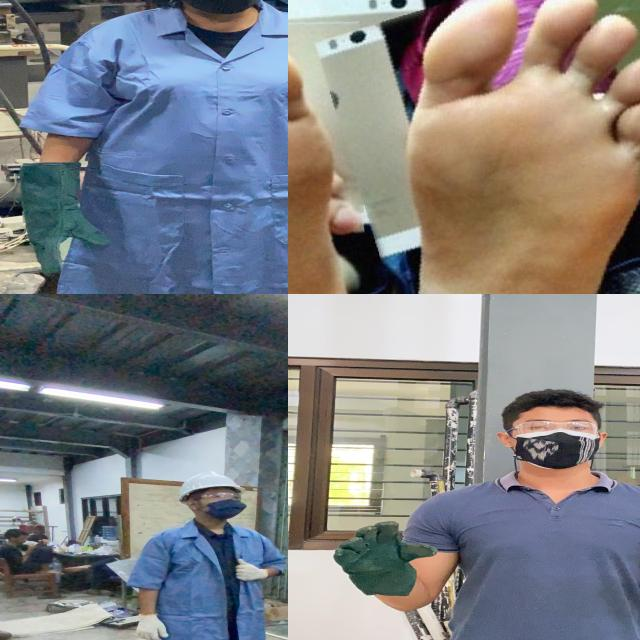Barefoots: (398, 0, 640, 294)
face_mask: (508, 415, 606, 468), (197, 488, 247, 518), (168, 0, 271, 14)
glasses: (500, 417, 603, 438), (184, 492, 244, 504)
hand_glove: (3, 202, 123, 278), (321, 517, 442, 591), (132, 612, 172, 640), (228, 556, 270, 582)
head_helmet: (172, 470, 249, 498)
head_nohelmet: (500, 384, 610, 420)
person: (23, 0, 288, 294), (377, 382, 640, 640), (122, 466, 285, 640)
